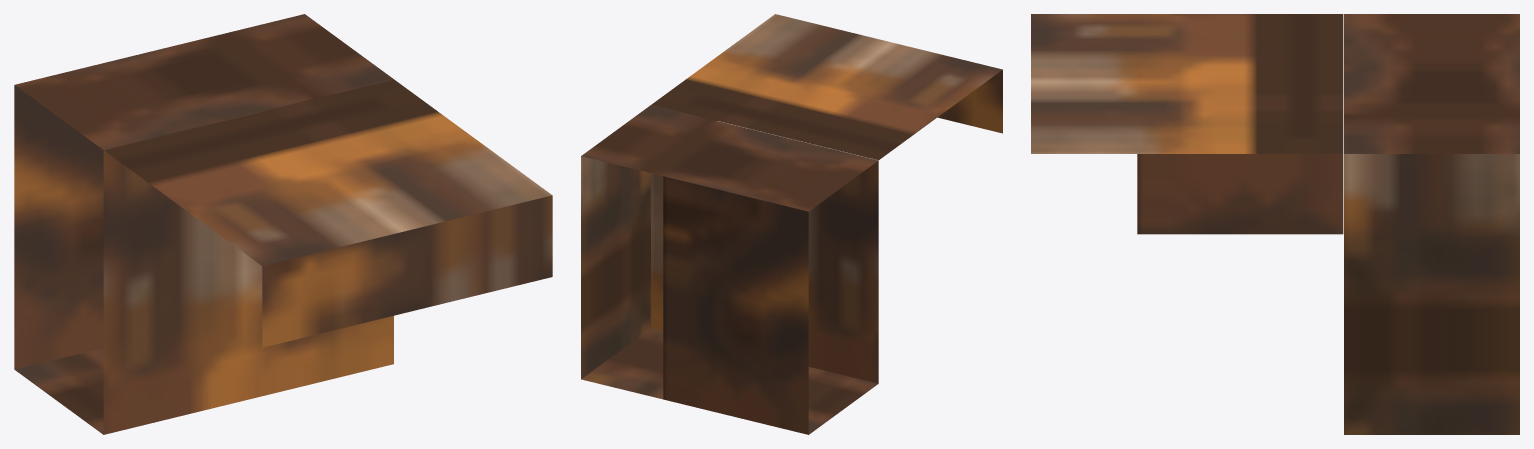
File: section-7.obj
The picture shows the model from 3 angles, left to right: view 1: azimuth 30°, elevation 25°; view 2: azimuth 150°, elevation 25°; view 3: azimuth 270°, elevation 25°; orthographic projection. The views are drawn at different scales.
Size of the model in its own units: 0.814 by 0.763 by 1.2.
